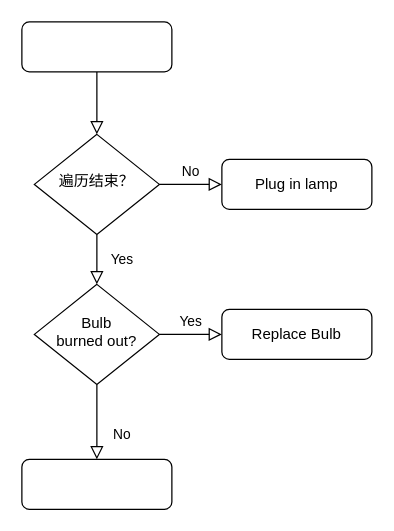
Image size: 394x531. Some labels were removed from this diagram. The centre of each missing label's shape, as x and y in pixels:
"Repair Lamp" goes at (96,483).
"开始" goes at (96,46).
